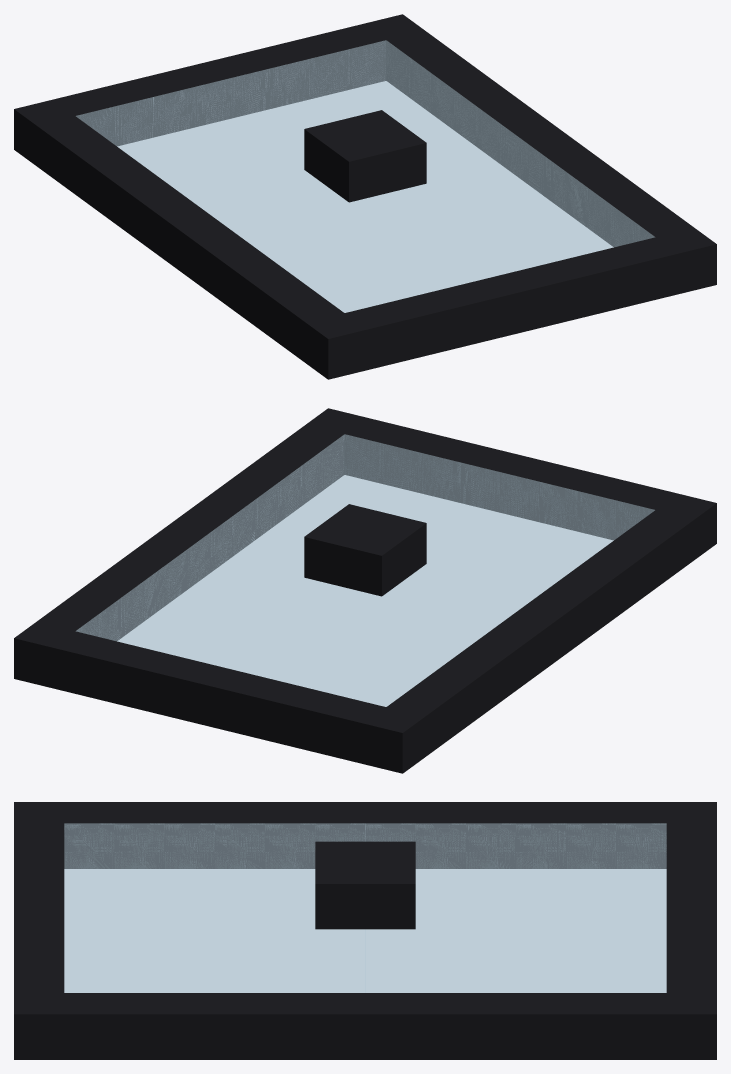
The model's file is shield.glb.
3 views of the same model, one above another, from view 1: azimuth 30°, elevation 25°; view 2: azimuth 150°, elevation 25°; view 3: azimuth 270°, elevation 25° (orthographic). The views are drawn at different scales.
Parts seen in each view (by area): view 1: shield; view 2: shield; view 3: shield.
Boxes of the visible parts, box(x1,y1,x2,y2) form: shield: box(14, 14, 716, 379); shield: box(14, 408, 716, 773); shield: box(14, 802, 716, 1059).
Size of the model in its own units: 0.5 by 0.1 by 0.7.
2 materials, 2 textured.
